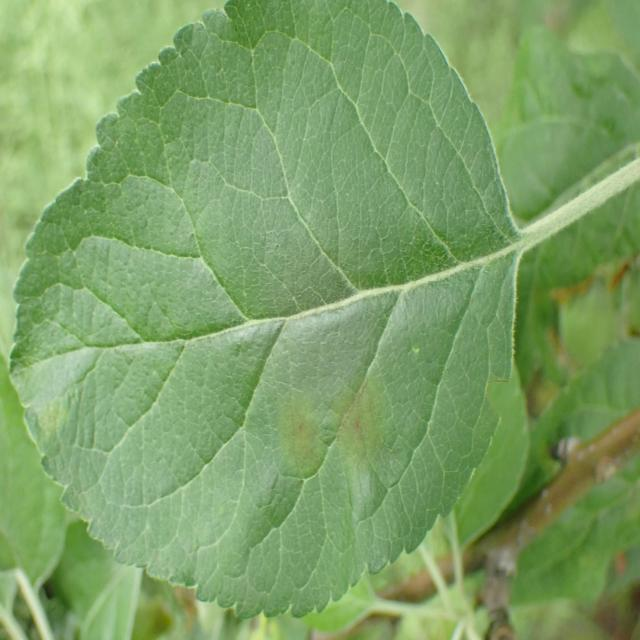scab: (31, 158, 482, 576)
